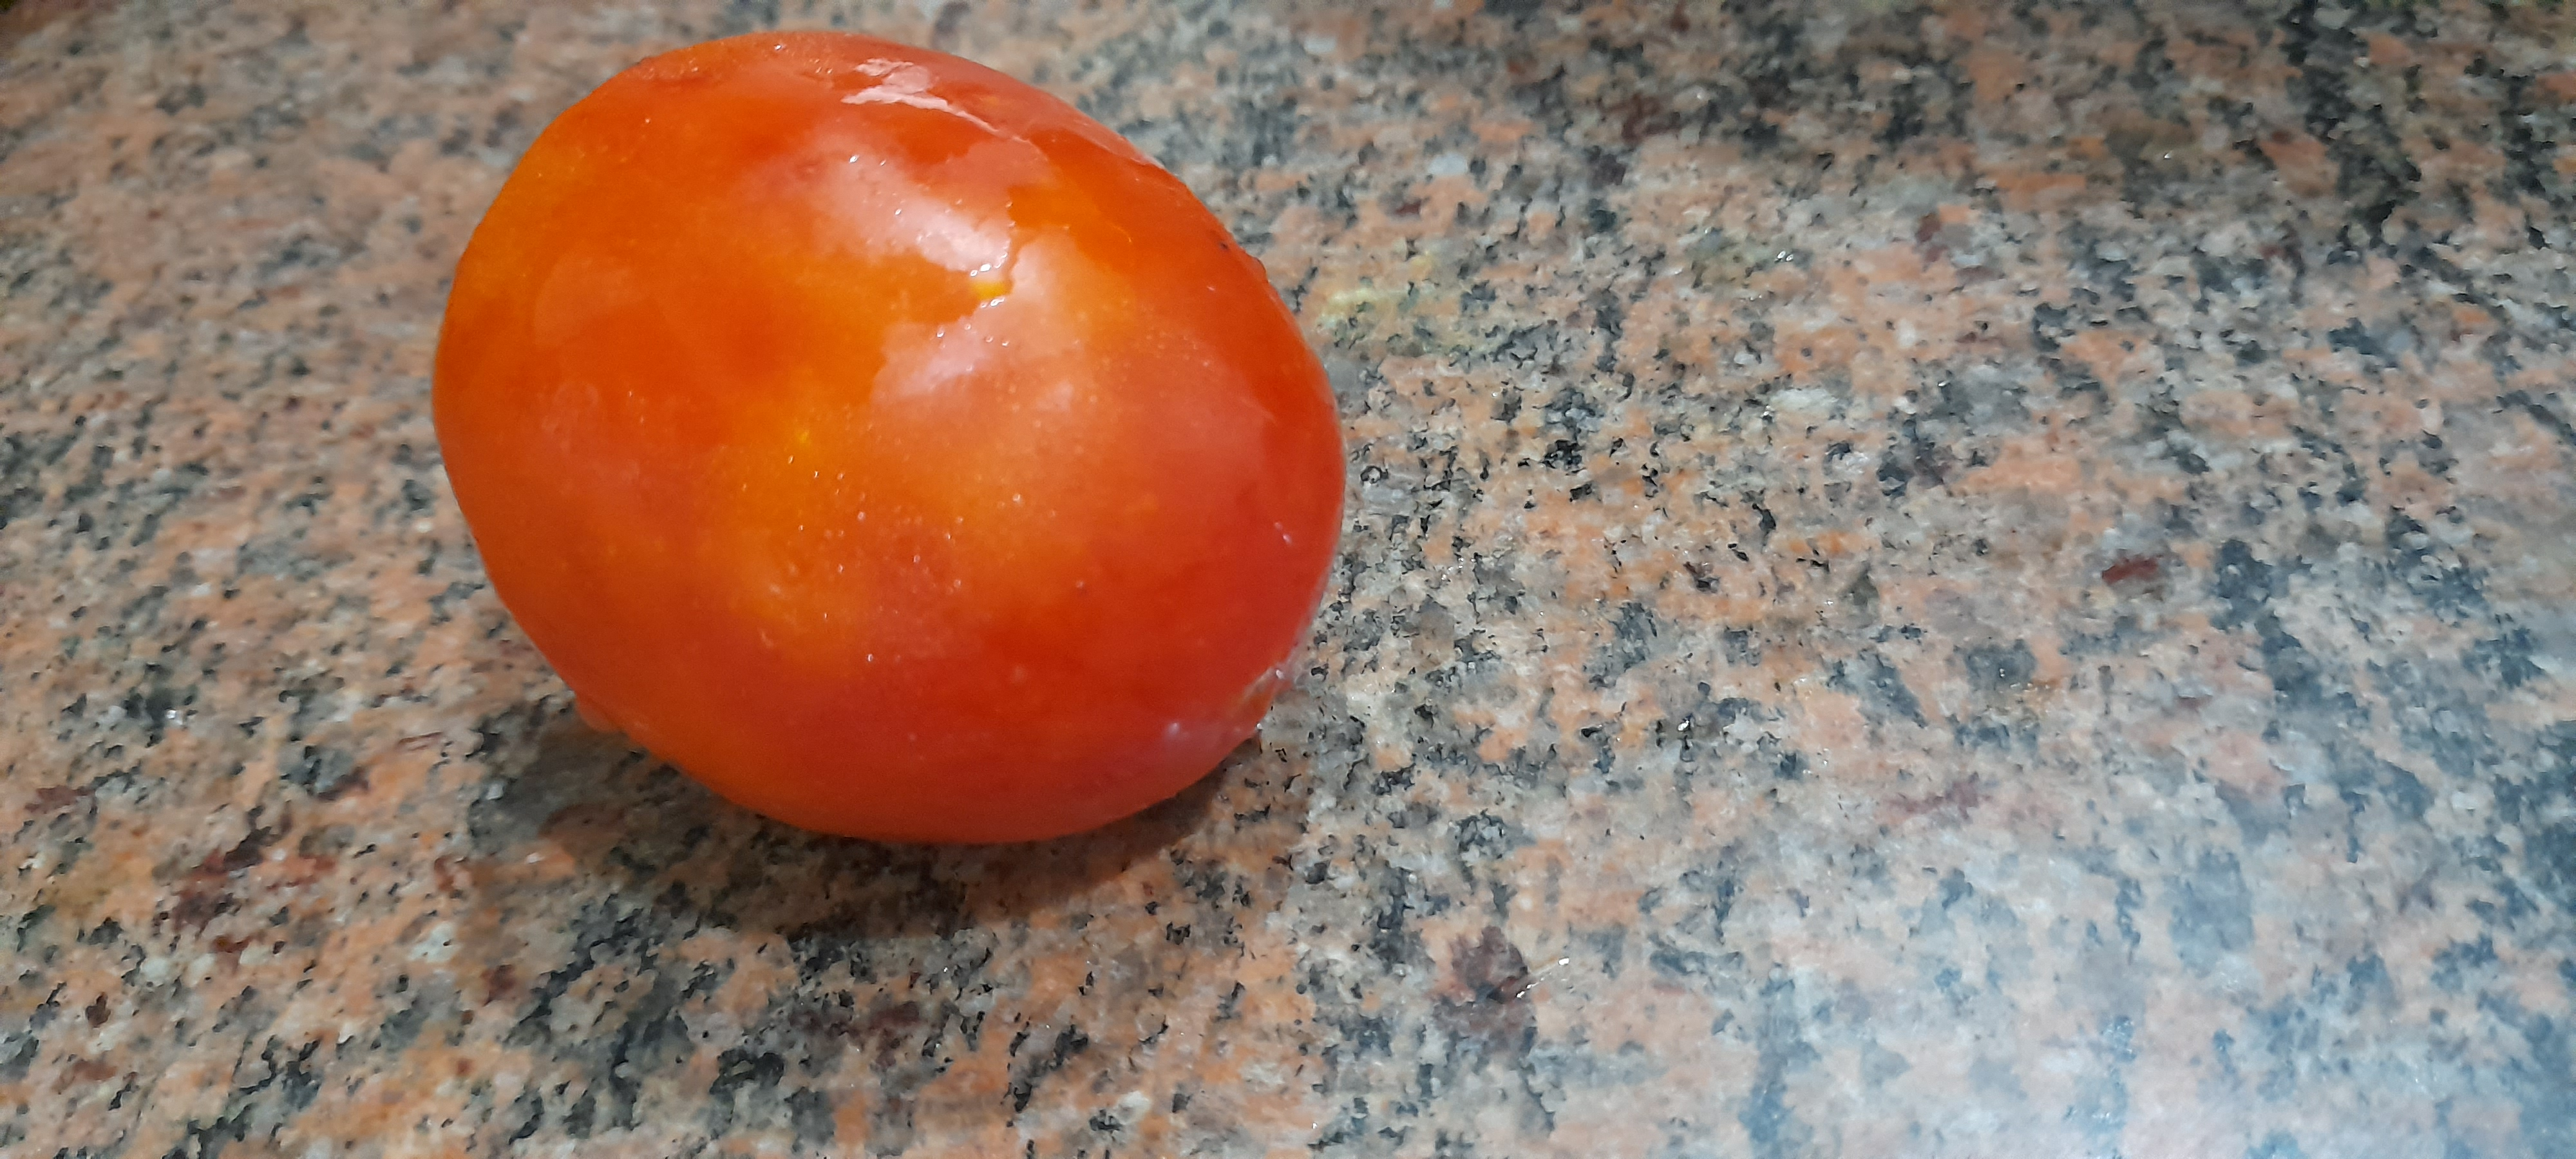tomato: (406, 0, 1357, 860)
